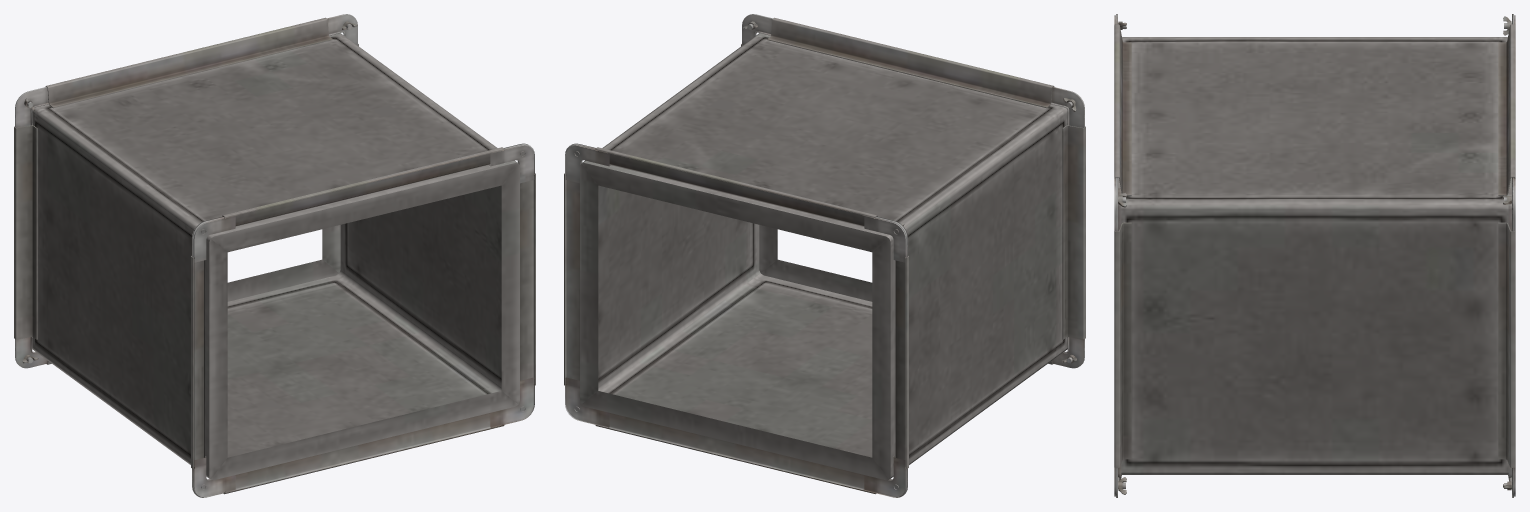
File: single_01.gltf
The picture shows the model from 3 angles, left to right: view 1: azimuth 30°, elevation 25°; view 2: azimuth 150°, elevation 25°; view 3: azimuth 270°, elevation 25°; orthographic projection. The views are drawn at different scales.
Visible parts, largest first — view 1: single_01; view 2: single_01; view 3: single_01.
Boxes of the visible parts, x1=… form: single_01: x1=14, y1=14, x2=535, y2=497; single_01: x1=564, y1=14, x2=1085, y2=497; single_01: x1=1114, y1=14, x2=1515, y2=497.
Bounding box in the file's own units: 0.6634 × 0.5126 × 0.6.
Materials: 2 (2 with a texture image).
